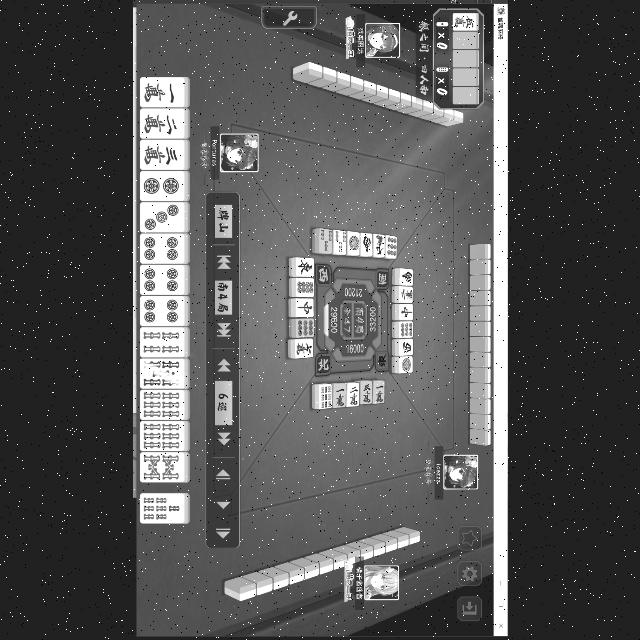1m: (140, 76, 190, 108), (333, 383, 345, 409), (372, 380, 384, 406)
1p: (346, 230, 359, 256), (398, 356, 412, 374)
2m: (140, 109, 190, 139), (346, 382, 359, 408), (398, 286, 414, 302)
2p: (139, 170, 191, 202)
3m: (138, 140, 190, 170), (360, 380, 372, 404)
3p: (140, 202, 188, 234)
3s: (334, 230, 348, 256), (318, 228, 332, 254)
4p: (138, 295, 190, 327), (140, 234, 190, 264), (140, 265, 190, 295)
4s: (140, 327, 188, 359)
5m: (453, 13, 479, 31)
5s: (139, 359, 191, 388)
6s: (140, 388, 188, 420), (140, 421, 188, 451)
7m: (294, 339, 314, 359)
7s: (140, 493, 188, 523)
8p: (296, 278, 314, 296)
8s: (140, 452, 190, 483)
9m: (374, 232, 384, 258)
9p: (295, 318, 313, 338), (385, 234, 397, 260), (400, 322, 412, 338)
9s: (318, 384, 332, 410)
chun: (294, 298, 314, 318), (398, 303, 412, 321)
nan: (360, 233, 372, 257), (400, 268, 414, 286)
sha: (401, 339, 414, 355)
tou: (294, 257, 314, 277), (378, 354, 387, 370)
